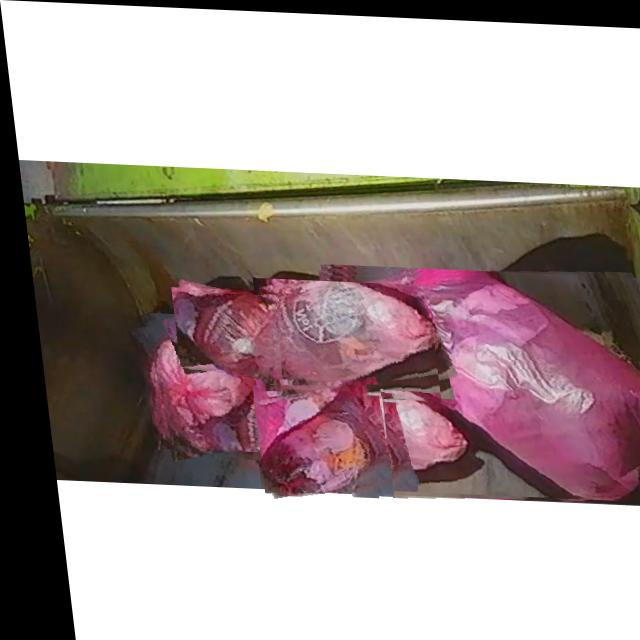other_trashbag: (333, 270, 640, 494), (260, 279, 425, 391), (145, 314, 252, 454), (250, 383, 376, 495), (167, 292, 269, 376)
